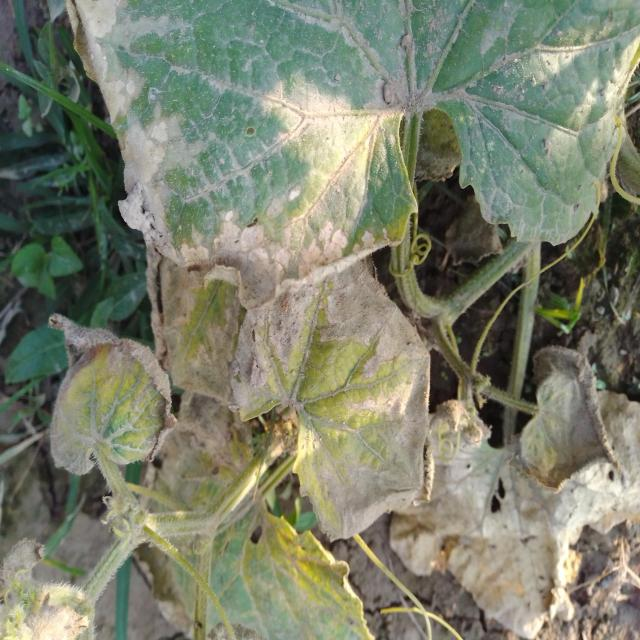cucumber_bacterial: (62, 0, 624, 299), (148, 282, 454, 640), (396, 337, 638, 629), (35, 312, 194, 541)
